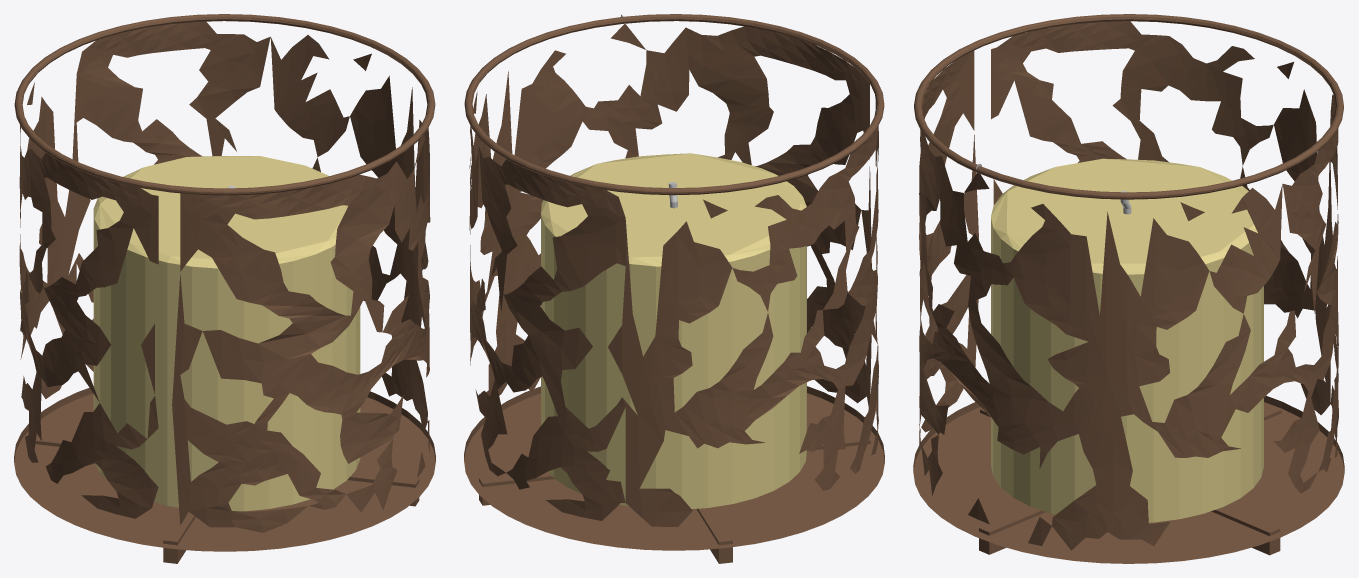
File: sh-scopia-complements2.glb
3 views of the same model, side by side, from view 1: azimuth 30°, elevation 25°; view 2: azimuth 150°, elevation 25°; view 3: azimuth 270°, elevation 25° (orthographic). The views are drawn at different scales.
Parts seen in each view (by area): view 1: shape2_Plane.002, candle2_Tube.001_vela; view 2: shape2_Plane.002, candle2_Tube.001_vela; view 3: shape2_Plane.002, candle2_Tube.001_vela.
Boxes of the visible parts, box(x1,y1,x2,y2) form: shape2_Plane.002: box(14, 14, 435, 563); candle2_Tube.001_vela: box(93, 156, 360, 511); shape2_Plane.002: box(464, 14, 884, 563); candle2_Tube.001_vela: box(541, 153, 806, 508); shape2_Plane.002: box(913, 14, 1344, 563); candle2_Tube.001_vela: box(991, 158, 1263, 522).
Size of the model in its own units: 1 by 1 by 1.
